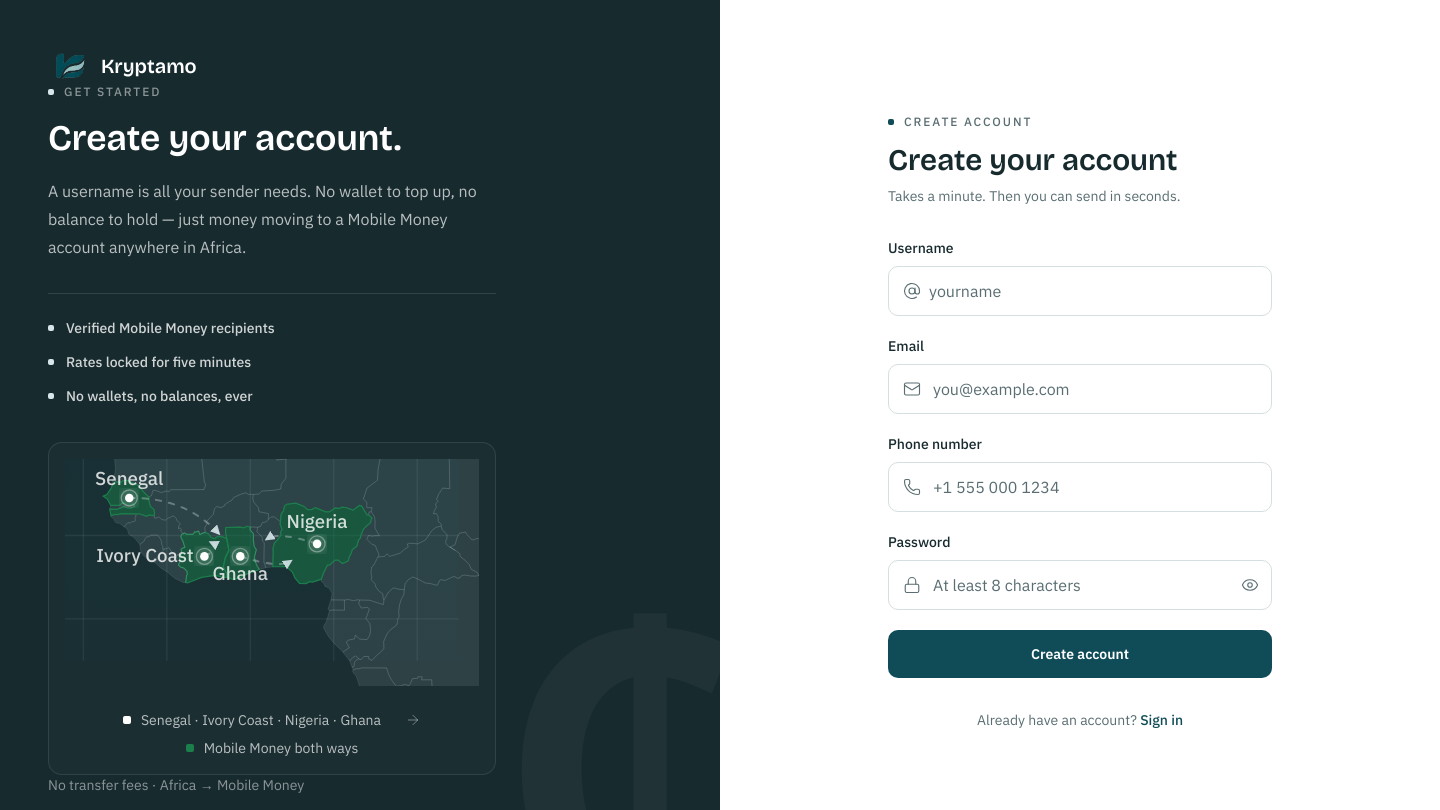
Test: SignupView › rejects a username with spaces
Type "bad name" into the field with id "username" at point(1096, 290), box top-left (921, 266), bottom-right (1271, 314)
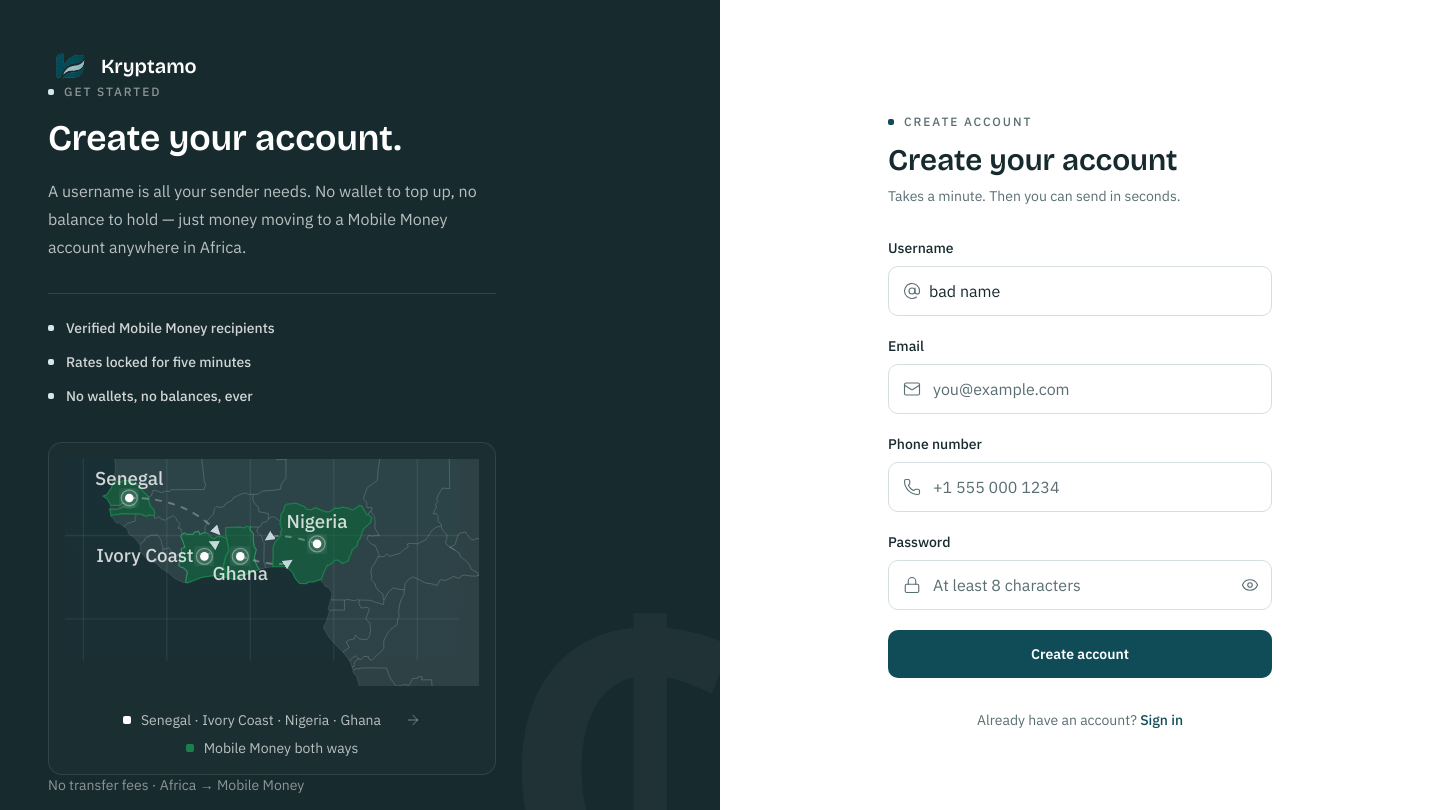
Submit the form, box top-left (888, 238), bottom-right (1272, 678)
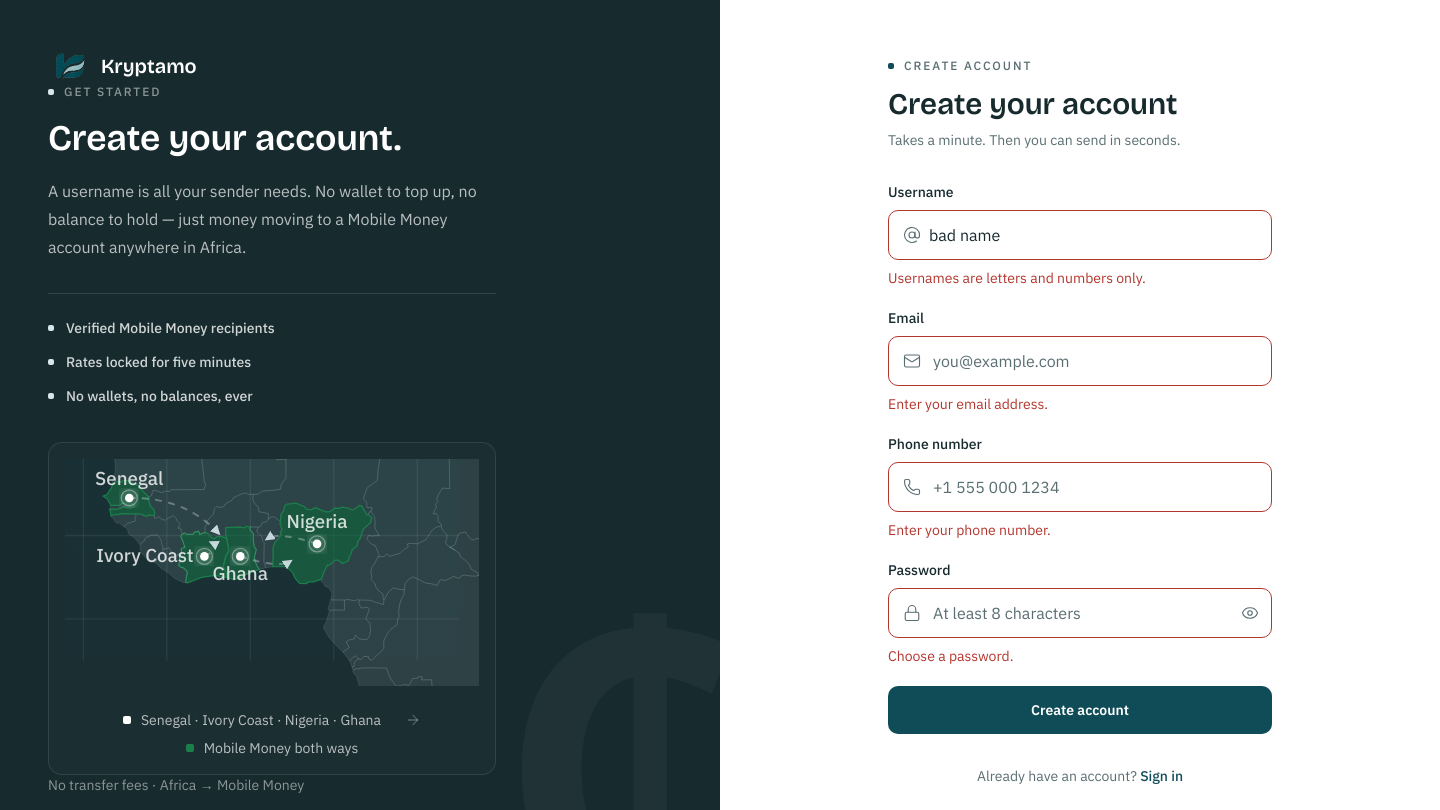
Result: the text "Usernames are letters and numbers only." is shown at top-left (888, 268), bottom-right (1146, 286)
